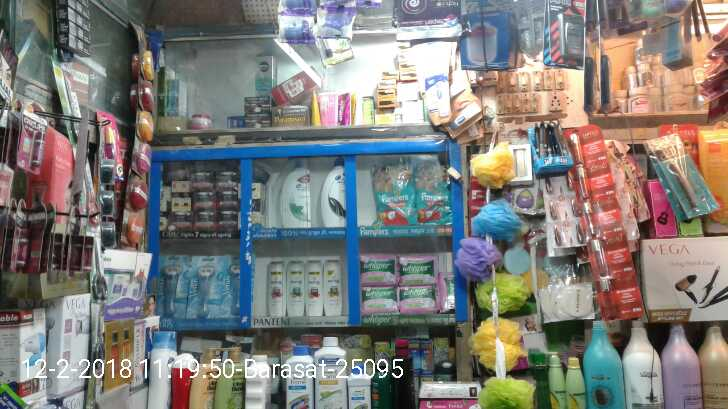venus: (187, 255, 223, 317), (159, 255, 187, 316), (226, 258, 242, 316)
